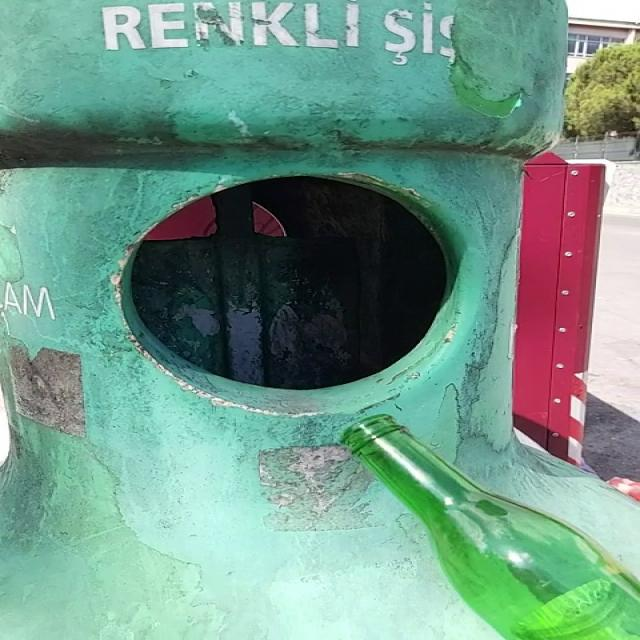glass: (343, 417, 640, 640)
